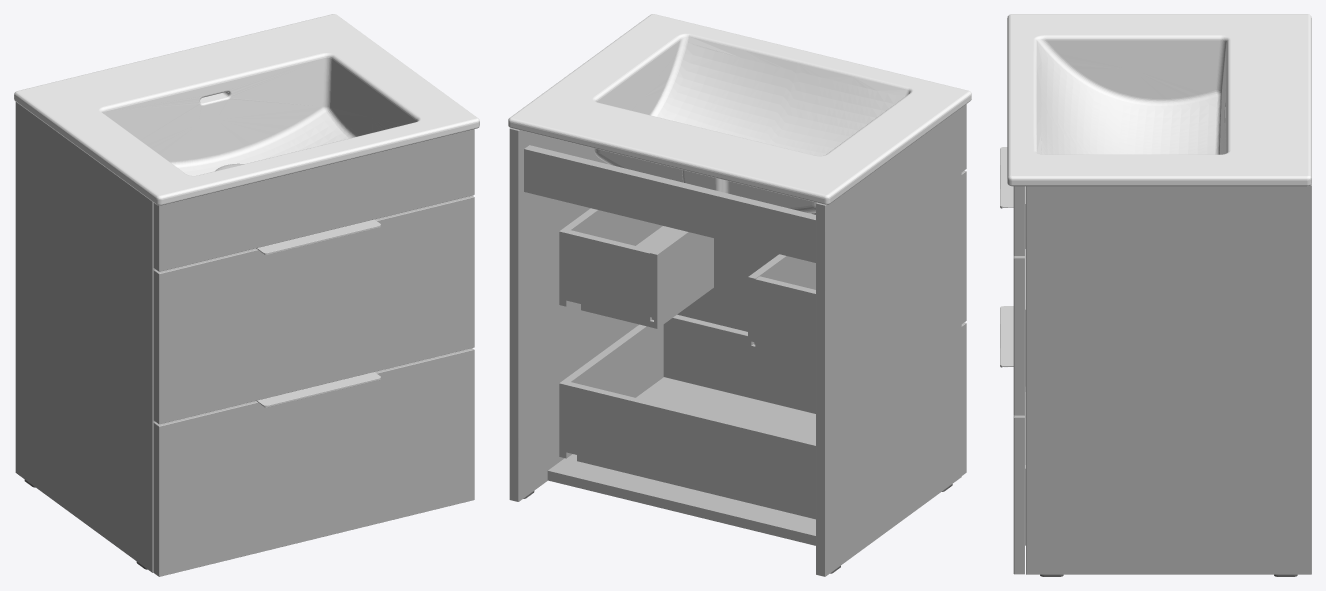
The model's file is AEC_43438.glb.
3 renders of one model, left to right at view 1: azimuth 30°, elevation 25°; view 2: azimuth 150°, elevation 25°; view 3: azimuth 270°, elevation 25°, orthographic. The views are drawn at different scales.
Visible parts, largest first — view 1: 0; view 2: 0; view 3: 0.
Boxes of the visible parts, left/top/right/bottom form: 0: left=14, top=14, right=479, bottom=576; 0: left=508, top=14, right=971, bottom=576; 0: left=1000, top=14, right=1311, bottom=576.
Size of the model in its own units: 0.55 by 0.626 by 0.4404.
1 material, 1 textured.
